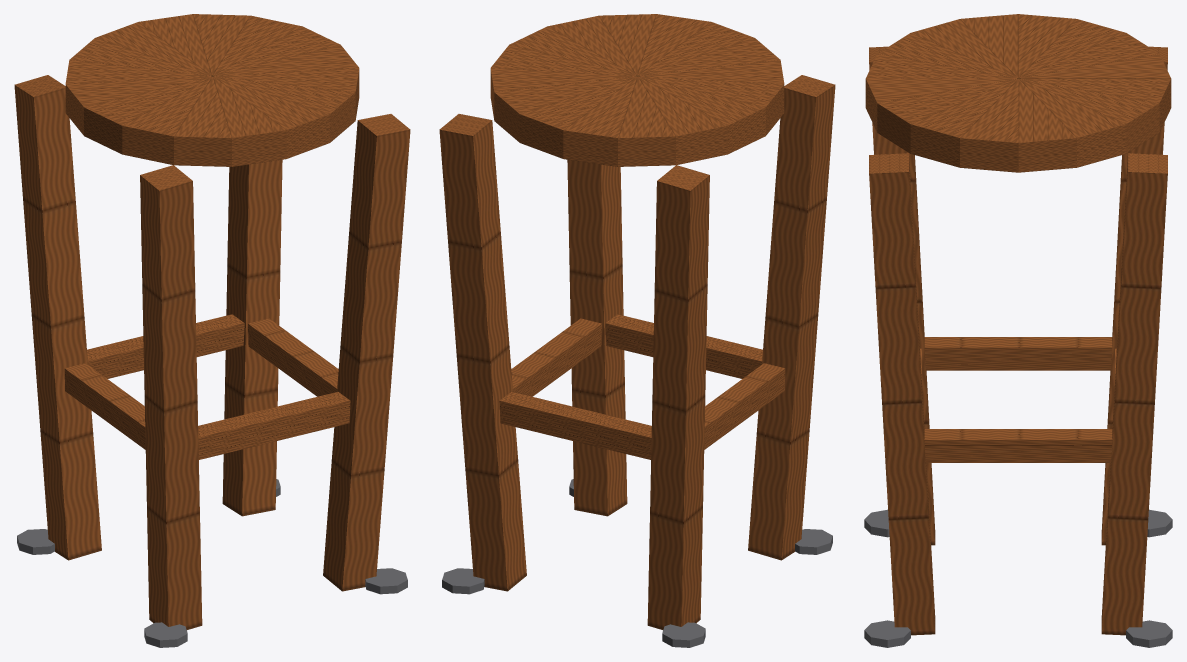
The model's file is tasting-stool.glb.
The picture shows the model from 3 angles, left to right: view 1: azimuth 30°, elevation 25°; view 2: azimuth 150°, elevation 25°; view 3: azimuth 270°, elevation 25°; orthographic projection. The views are drawn at different scales.
Parts seen in each view (by area): view 1: tasting-stool-timber, tasting-stool-dark; view 2: tasting-stool-timber, tasting-stool-dark; view 3: tasting-stool-timber, tasting-stool-dark.
Boxes of the visible parts, x1=… form: tasting-stool-timber: x1=14, y1=14, x2=410, y2=629; tasting-stool-dark: x1=17, y1=479, x2=407, y2=647; tasting-stool-timber: x1=439, y1=14, x2=835, y2=629; tasting-stool-dark: x1=442, y1=479, x2=832, y2=647; tasting-stool-timber: x1=865, y1=14, x2=1171, y2=635; tasting-stool-dark: x1=864, y1=509, x2=1172, y2=647.
Bounding box in the file's own units: 0.424 × 0.7668 × 0.424.
2 materials, 1 textured.
